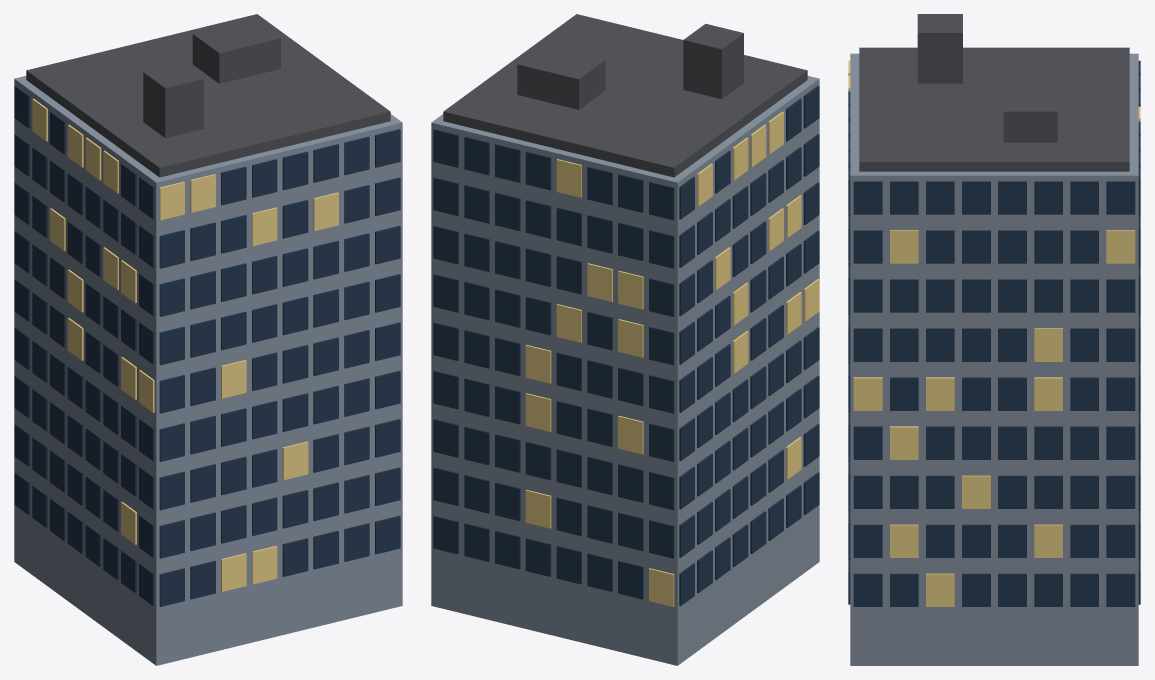
Rendered from building_office.obj.
3 renders of one model, left to right at view 1: azimuth 30°, elevation 25°; view 2: azimuth 150°, elevation 25°; view 3: azimuth 270°, elevation 25°, orthographic.
Parts seen in each view (by area): view 1: building_office; view 2: building_office; view 3: building_office.
Part boxes in pixels (x1,y1,x2,y2): building_office: [14, 14, 402, 665]; building_office: [431, 14, 819, 665]; building_office: [848, 14, 1140, 665].
Bounding box in the file's own units: 16.2 × 33.7 × 16.2.
